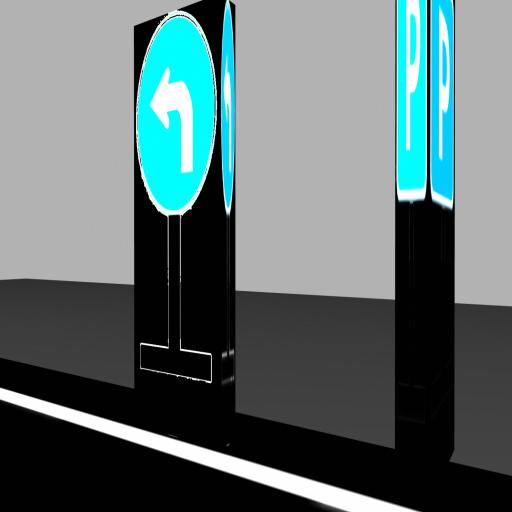Left Turn Sign: (137, 13, 216, 214), (221, 0, 235, 214)
Parking Allowed: (397, 0, 427, 200), (430, 0, 454, 209)
